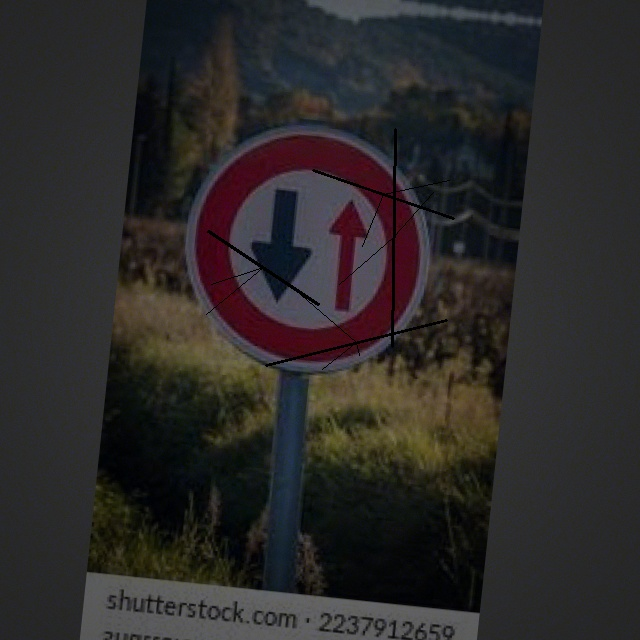Mandatory_Two_Way_Traffic: (175, 107, 459, 385)
